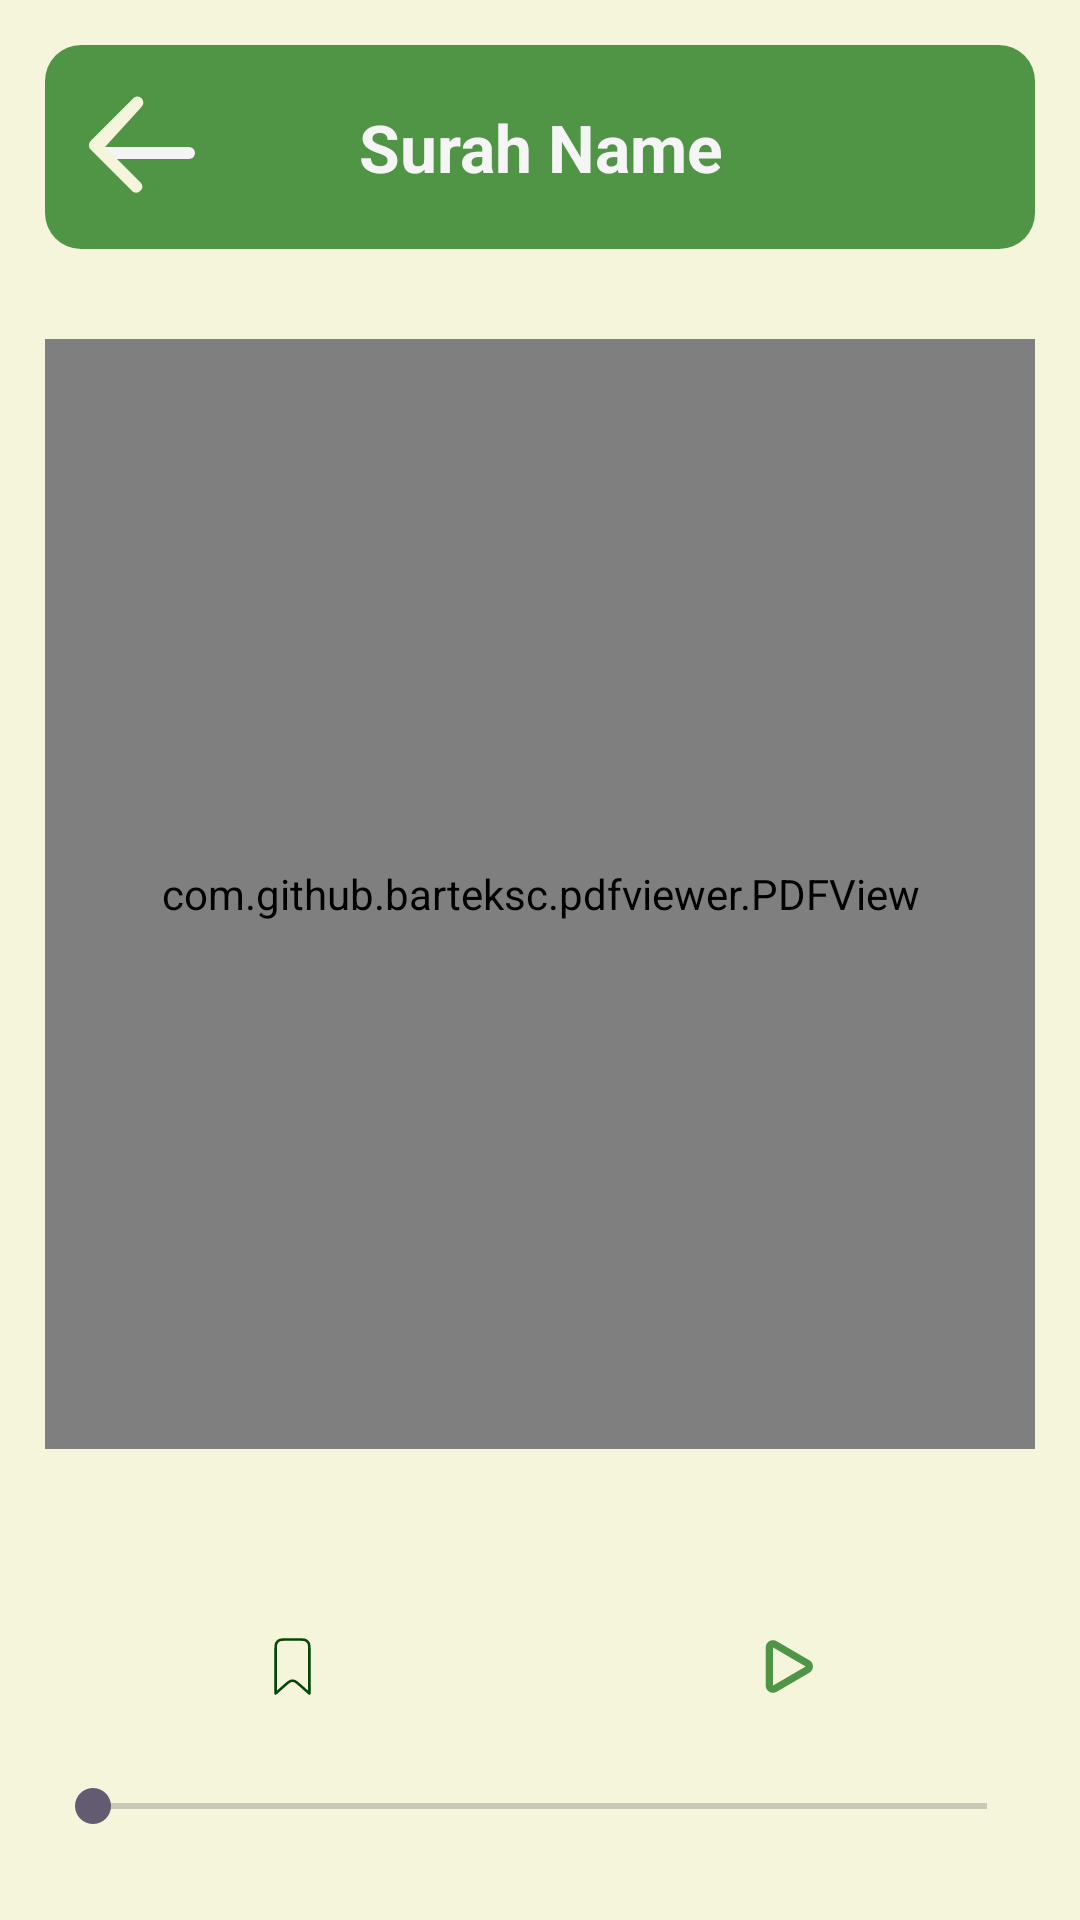

Screen size 1080 x 1920. Icon name, then its center in pixels as (x,y):
Back: (142,144)
Bookmark: (292,1666)
Play/Pause: (789,1666)
